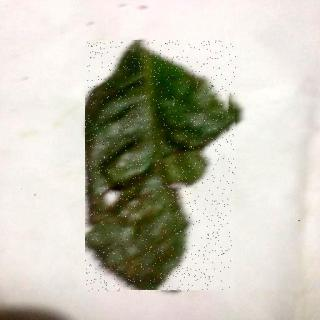Red Leaf Spot: (87, 42, 237, 293)
